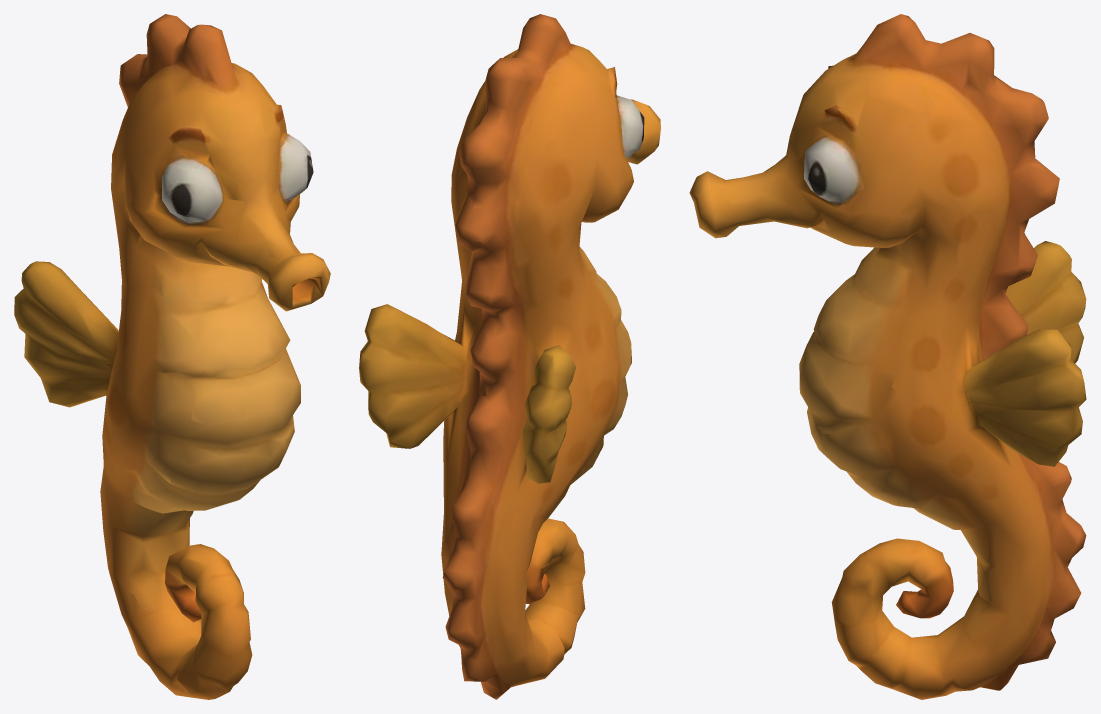
File: fish-seahorse.glb
The picture shows the model from 3 angles, left to right: view 1: azimuth 30°, elevation 25°; view 2: azimuth 150°, elevation 25°; view 3: azimuth 270°, elevation 25°; orthographic projection. The views are drawn at different scales.
Visible parts, largest first — view 1: tripo_node_052e177a-c718-4430-8862-212fed43079c; view 2: tripo_node_052e177a-c718-4430-8862-212fed43079c; view 3: tripo_node_052e177a-c718-4430-8862-212fed43079c.
Boxes of the visible parts, box(x1,y1,x2,y2) form: tripo_node_052e177a-c718-4430-8862-212fed43079c: box(14, 14, 330, 699); tripo_node_052e177a-c718-4430-8862-212fed43079c: box(359, 14, 660, 699); tripo_node_052e177a-c718-4430-8862-212fed43079c: box(689, 14, 1086, 699).
Size of the model in its own units: 0.3223 by 1 by 0.5294.
1 material, 1 textured.
